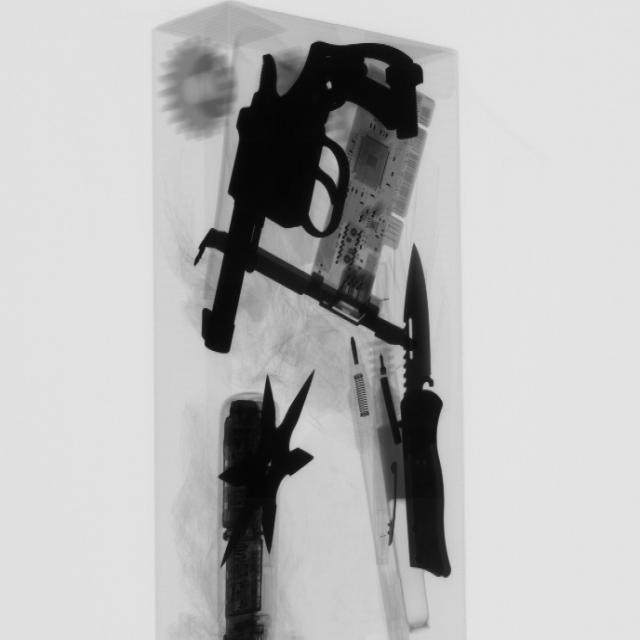GUN: (201, 35, 408, 351)
KNIFE: (381, 243, 462, 585)
SHURIKEN: (214, 372, 322, 572)
